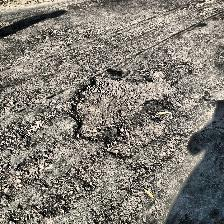pothole: (68, 70, 182, 160)
